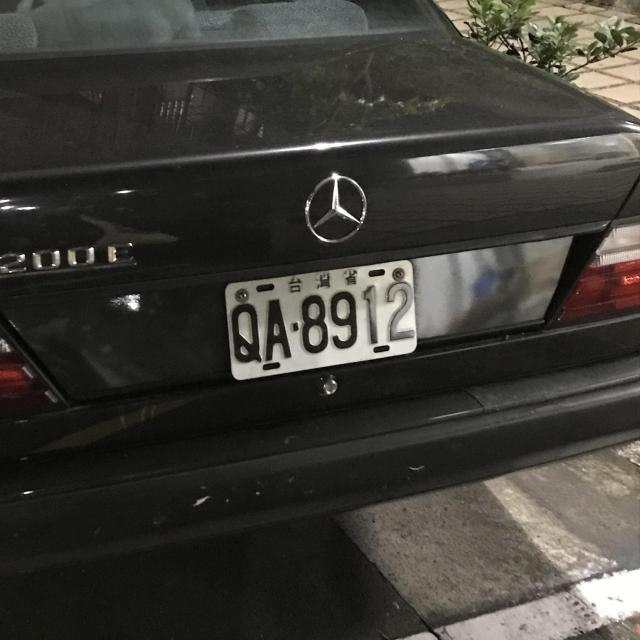W: (215, 253, 428, 391)
